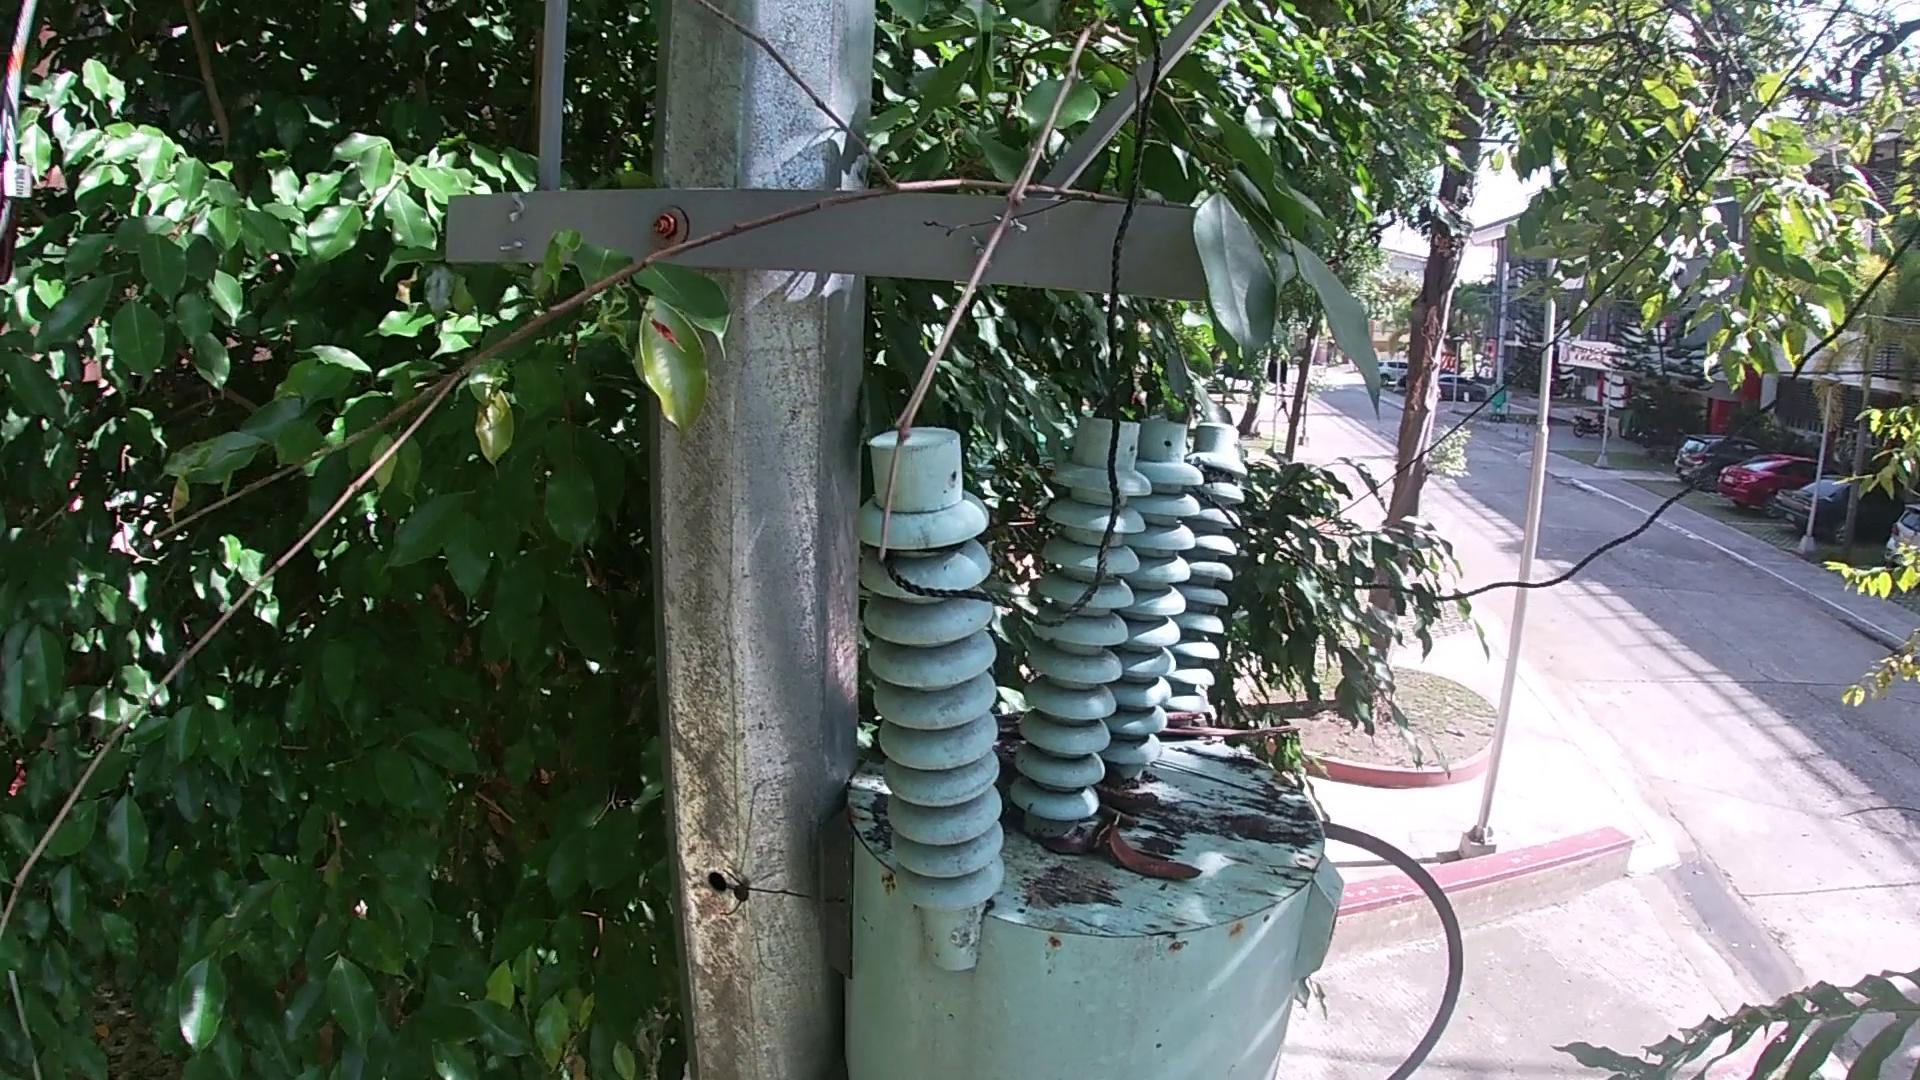leaf: (1033, 832, 1098, 849)
mahogany fruit: (1112, 825, 1197, 890), (1110, 787, 1178, 807)
tree branch: (4, 1, 1222, 907), (1155, 761, 1307, 812), (1162, 713, 1295, 741), (996, 719, 1033, 742)
